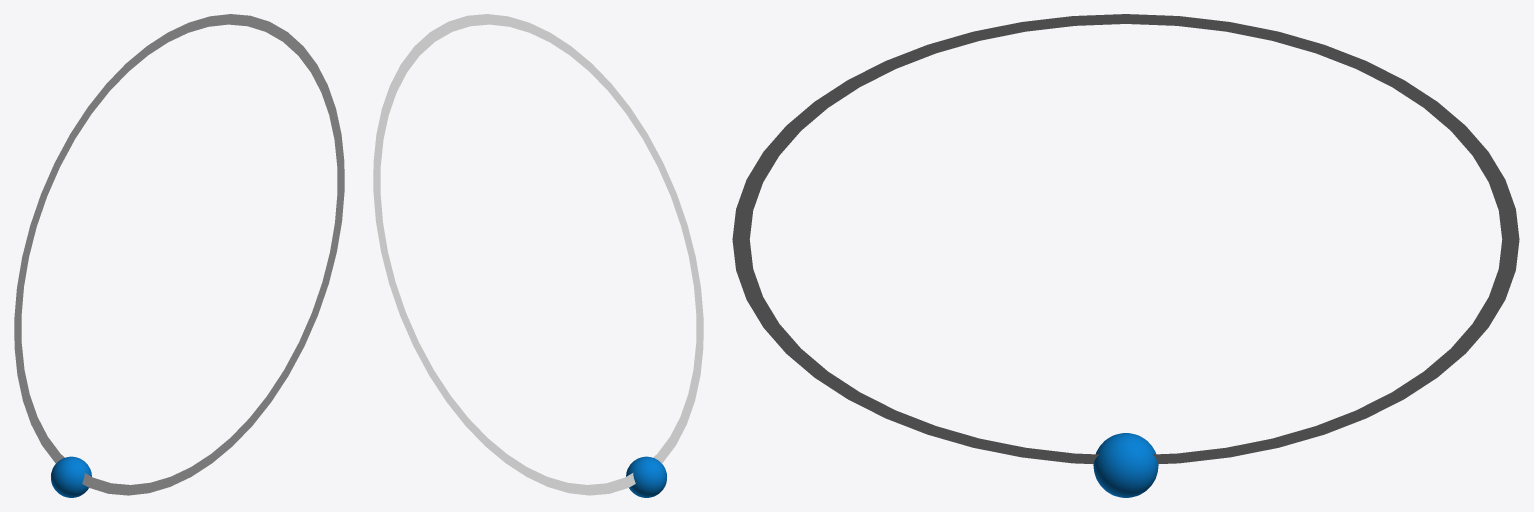
Rendered from atom-3.glb.
3 renders of one model, left to right at view 1: azimuth 30°, elevation 25°; view 2: azimuth 150°, elevation 25°; view 3: azimuth 270°, elevation 25°, orthographic. The views are drawn at different scales.
Parts seen in each view (by area): view 1: BezierCircle.001_BezierCircle, Sphere.004; view 2: BezierCircle.001_BezierCircle, Sphere.004; view 3: BezierCircle.001_BezierCircle, Sphere.004.
Boxes of the visible parts, x1=… form: BezierCircle.001_BezierCircle: x1=14, y1=14, x2=344, y2=495; Sphere.004: x1=51, y1=456, x2=91, y2=497; BezierCircle.001_BezierCircle: x1=373, y1=14, x2=703, y2=495; Sphere.004: x1=626, y1=456, x2=666, y2=497; BezierCircle.001_BezierCircle: x1=732, y1=14, x2=1519, y2=464; Sphere.004: x1=1093, y1=433, x2=1158, y2=497.
Bounding box in the file's own units: 3.92 × 6.58 × 7.25.
